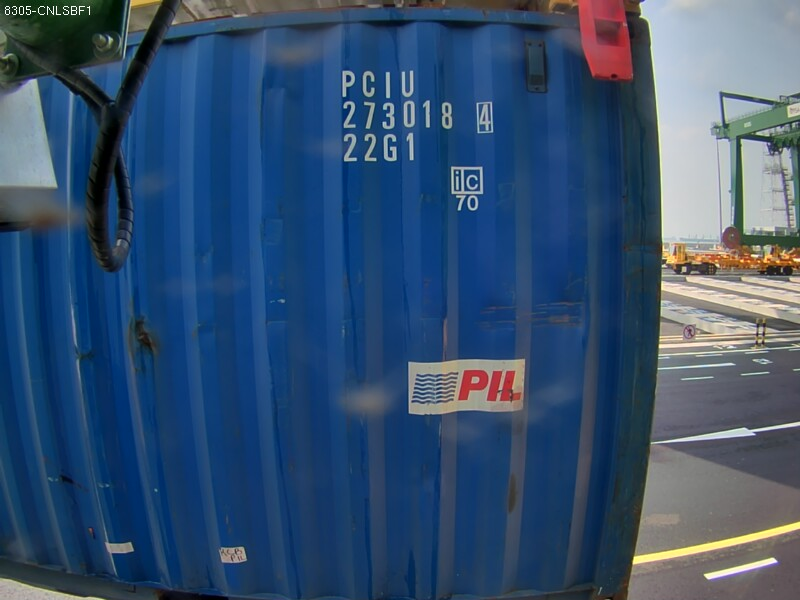container_no_door: (194, 3, 562, 592)
